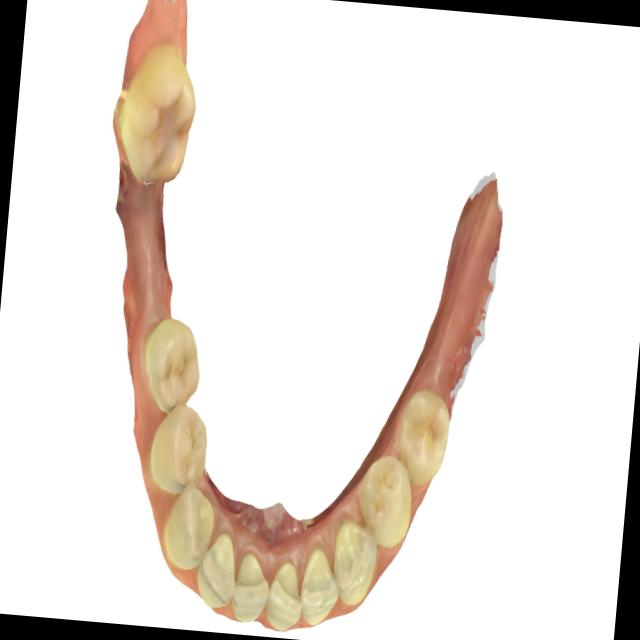tooth: (107, 26, 207, 203), (132, 299, 211, 422), (348, 441, 424, 561), (143, 390, 216, 505), (388, 374, 456, 488), (149, 482, 225, 577), (323, 511, 384, 616), (286, 540, 349, 633), (224, 534, 276, 634), (193, 527, 245, 618), (257, 548, 308, 639)
